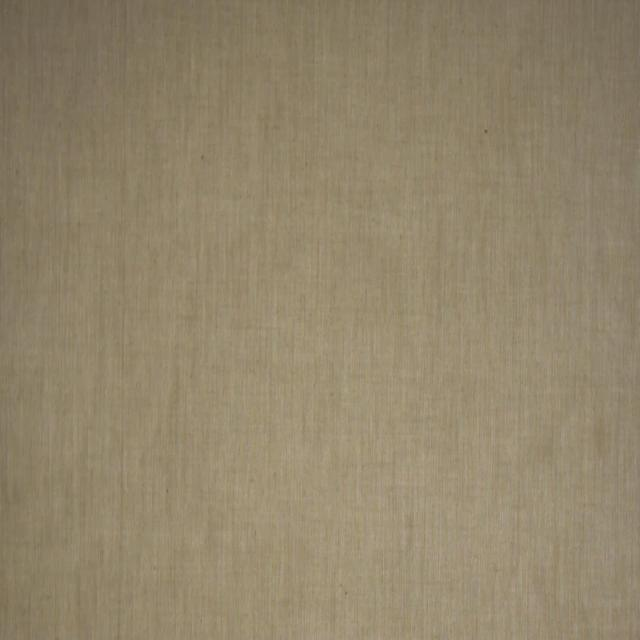dirty: (593, 408, 604, 444)
